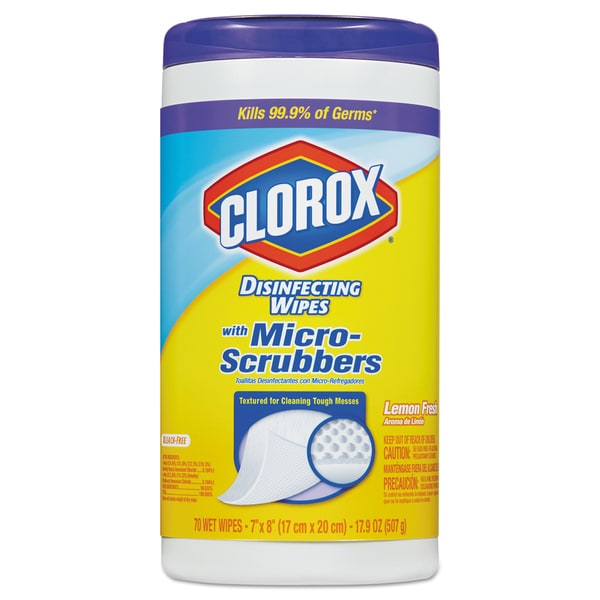Wipes: (151, 10, 447, 592)
